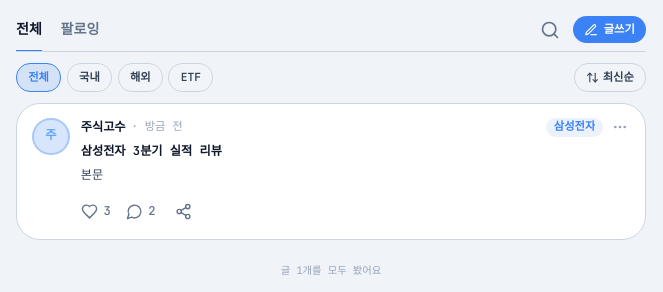
Test: 5 — 아래 단추 › 누르면 하트가 톡 튀고, 서버 값으로 맞춘다
Click the button named "좋아요 3" at (96,212), box [73,192,118,232]
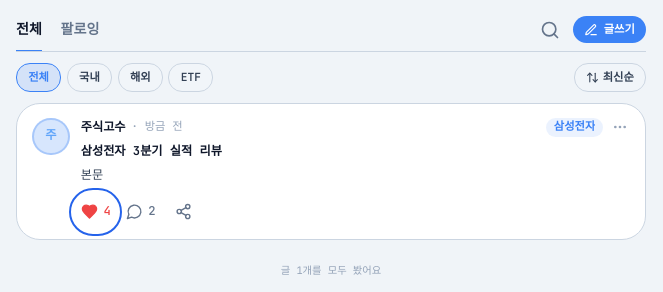
Expected: the button named "좋아요 4" is pressed, [73,192,118,232]
Expected: the 5th icon has class "heart-pop", [81,203,98,220]
